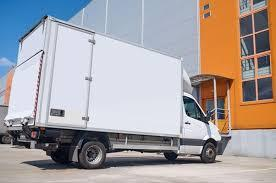truck: (4, 14, 227, 170)
